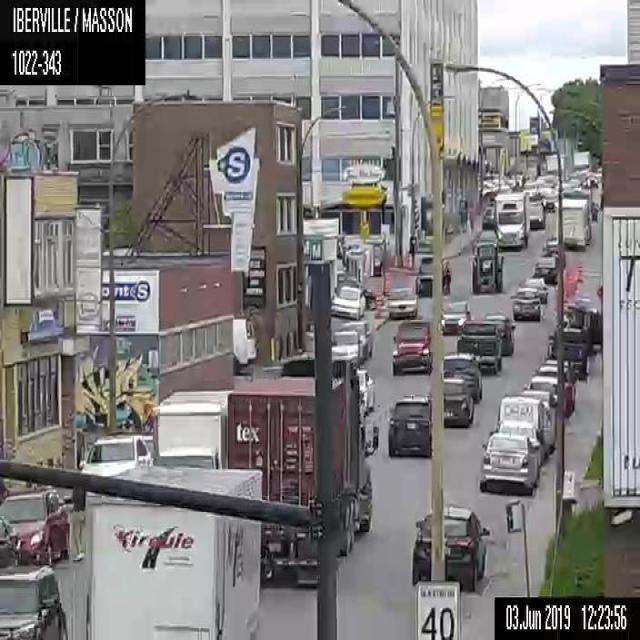Car: (410, 503, 490, 592), (386, 393, 432, 458)
